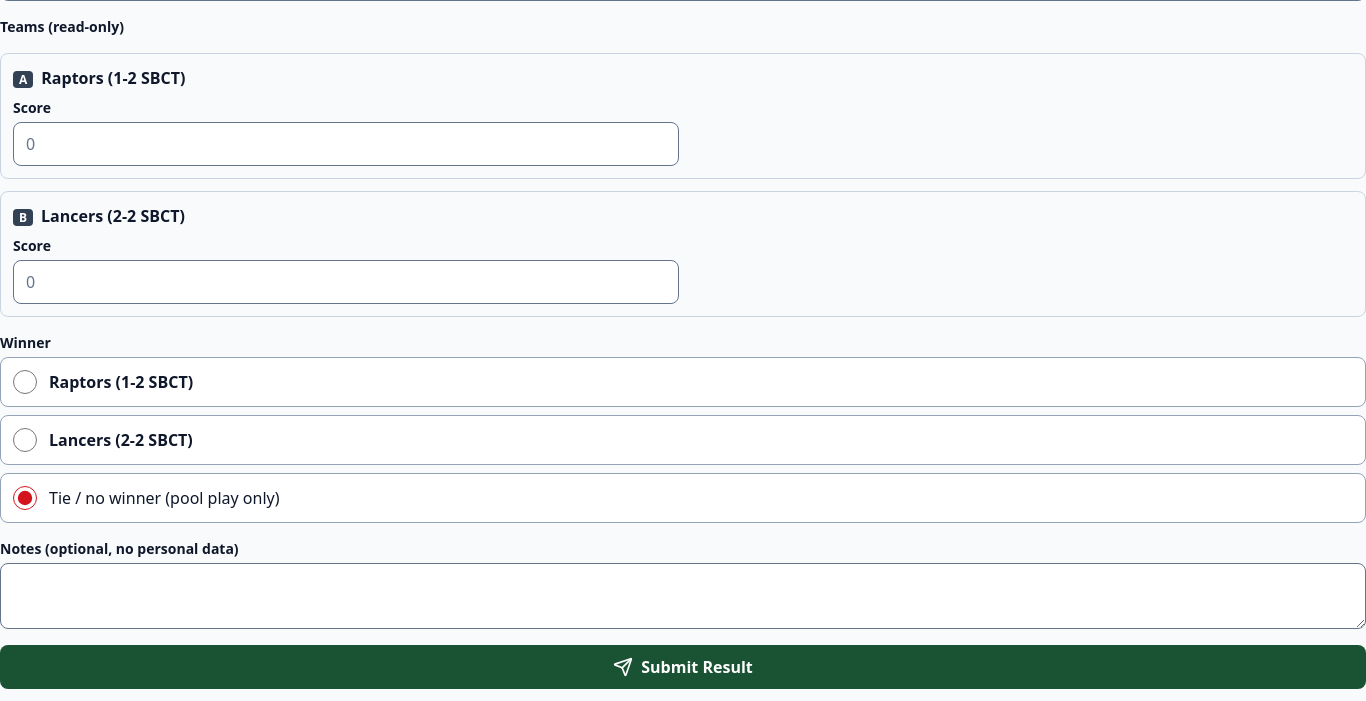
Test: ScoreEntryForm › rejects negative scores
Type "-2" into the field named "Score for Raptors (1-2 SBCT)" at (346, 144), box [13, 122, 679, 166]
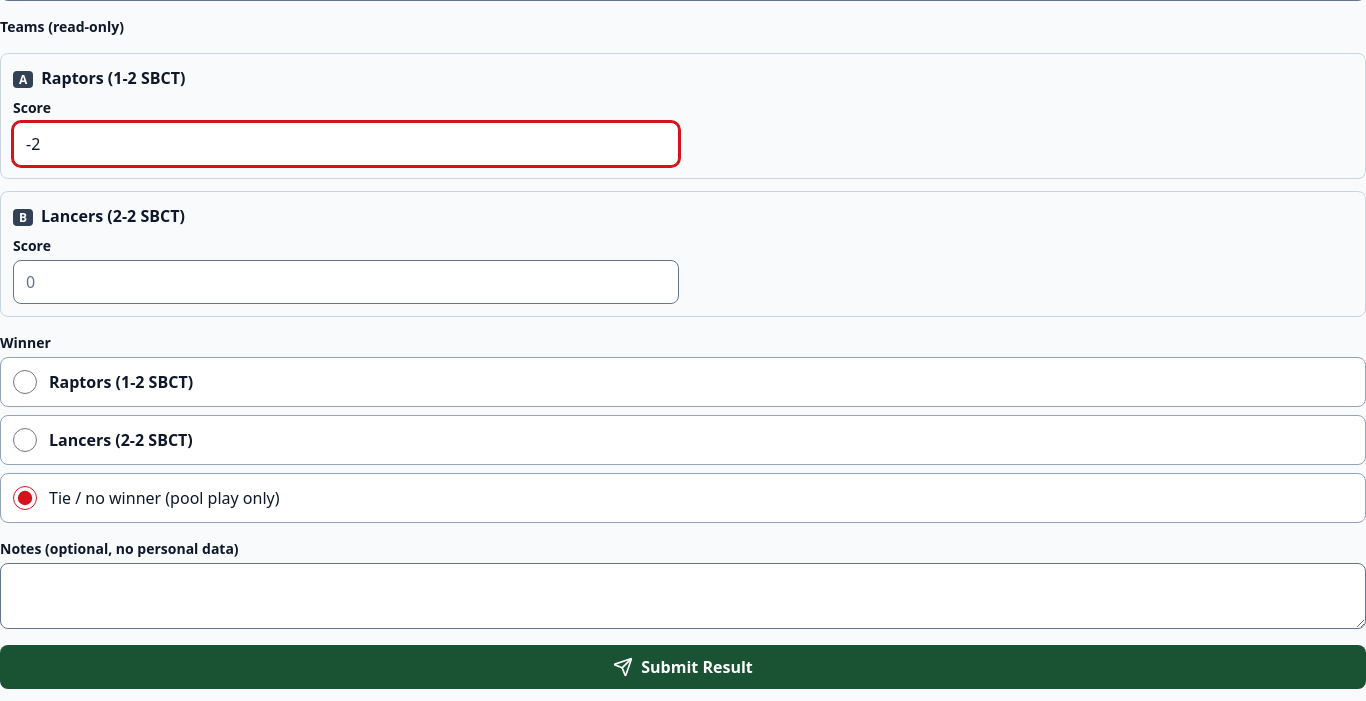
Type "1" into the field named "Score for Lancers (2-2 SBCT)" at (346, 282), box [13, 260, 679, 304]
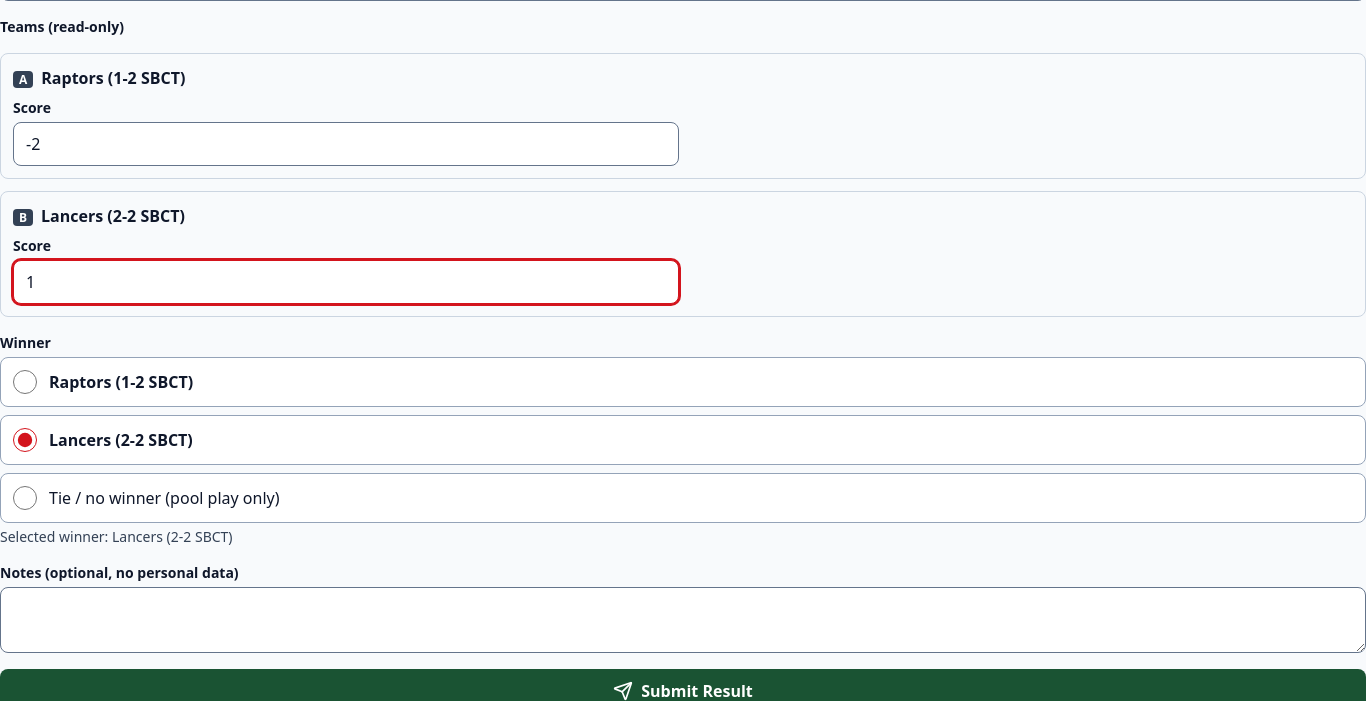
Click the radio button labelled "Raptors (1-2 SBCT)" at (25, 382), box [13, 370, 37, 394]
(page scrolled)
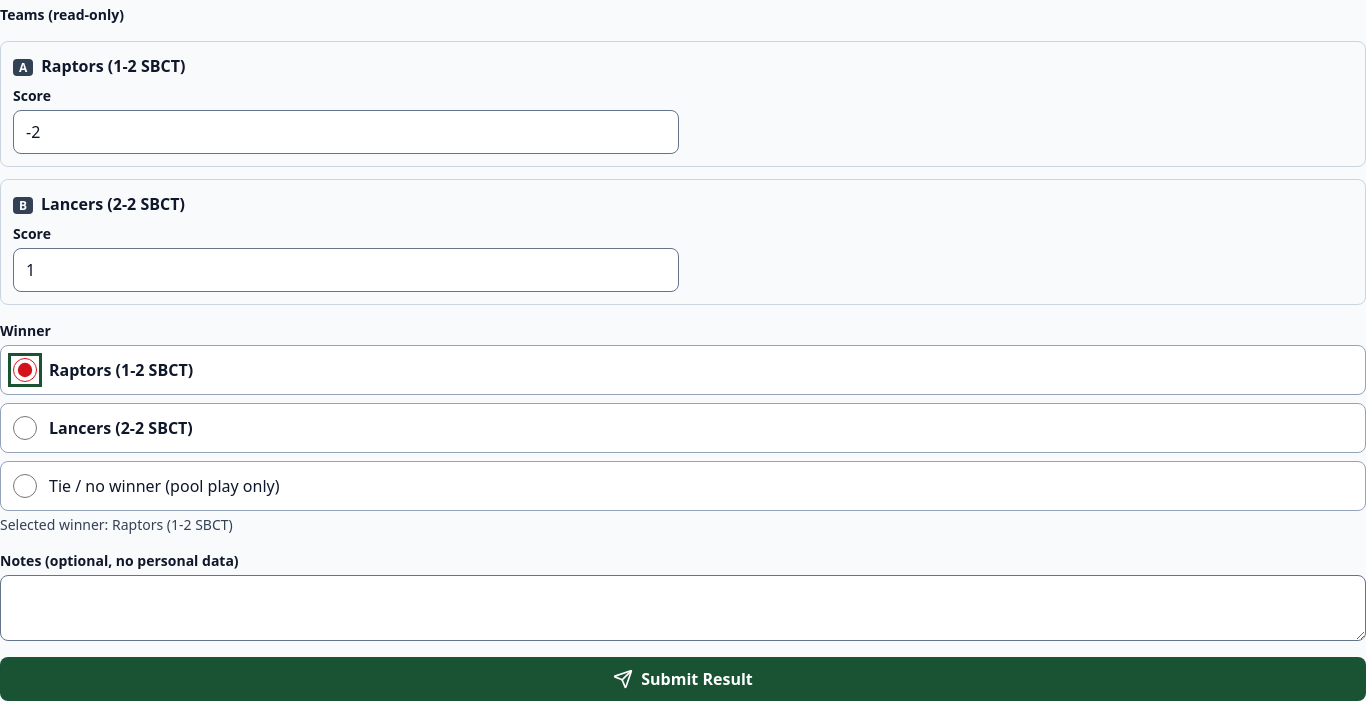
Click the button "Submit Result" at (683, 679), box [0, 657, 1365, 700]
(page scrolled)
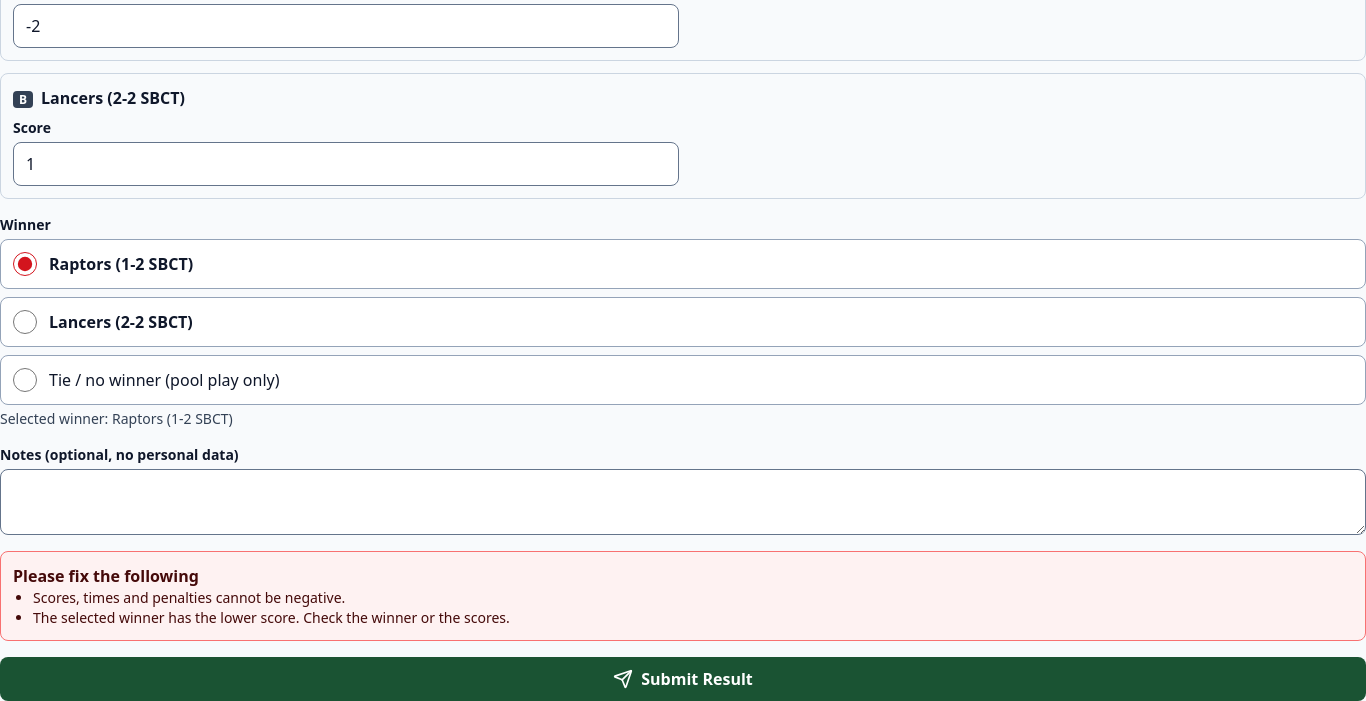
Expected: the list item "Scores, times and penalties cannot be negative." is shown, [33, 588, 345, 607]
